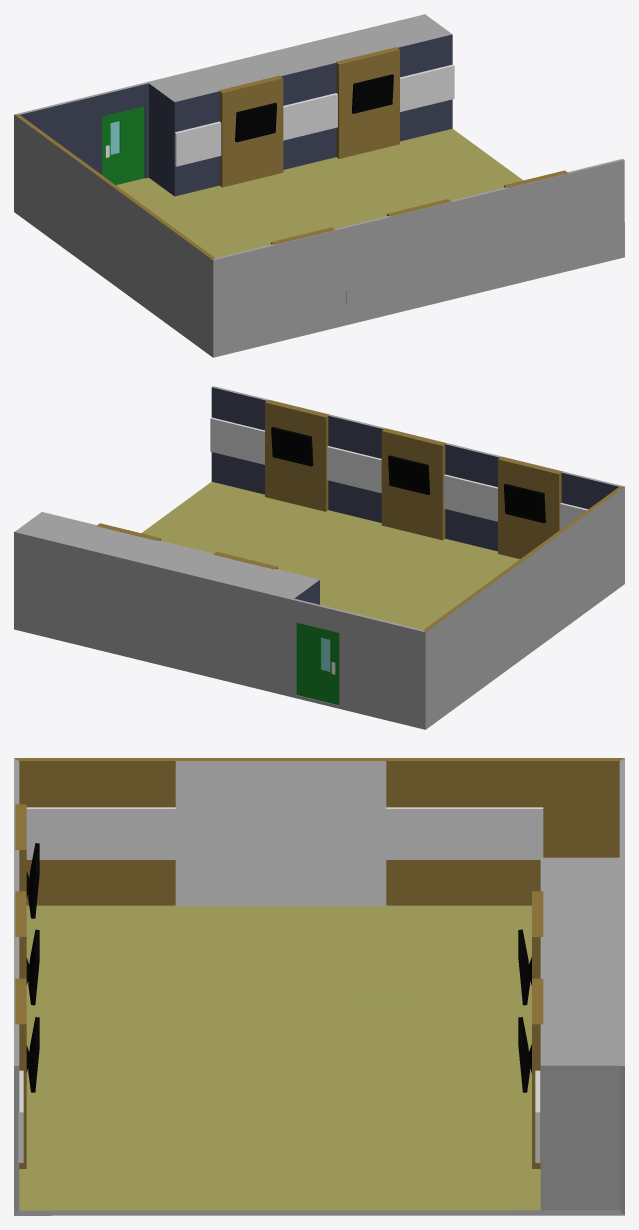
The model's file is Smart_Classroom_Extended_ColorFix.glb.
3 views of the same model, one above another, from view 1: azimuth 30°, elevation 25°; view 2: azimuth 150°, elevation 25°; view 3: azimuth 270°, elevation 25° (orthographic). The views are drawn at different scales.
Parts seen in each view (by area): view 1: Class Base, Panel.003, Panel.004, BoArD_RiGhT.001, BoArD_RiGhT.003, BoArD_RiGhT.002, TV.002, TV.003; view 2: Class Base, Panel.002, Panel.005, Panel.001, BoArD_LeFt.001, BoArD_LeFt.002, BoArD_LeFt.003, TV.004, TV.001, TV; view 3: Class Base, Screen, BoArD_Mid2, BoArD_Mid, Panel.004, Panel.005, Panel.003, Panel.002, Panel.001, TV.001, TV, TV.002 (+2 smaller).
Part boxes in pixels (x1,y1,x2,y2): Class Base: [14, 14, 624, 357]; Panel.003: [219, 75, 283, 187]; Panel.004: [336, 47, 399, 158]; BoArD_RiGhT.001: [283, 93, 337, 140]; BoArD_RiGhT.003: [400, 64, 454, 111]; BoArD_RiGhT.002: [174, 121, 221, 166]; TV.002: [235, 102, 276, 142]; TV.003: [351, 74, 393, 113]; Class Base: [14, 386, 624, 729]; Panel.002: [381, 428, 446, 540]; Panel.005: [265, 400, 329, 511]; Panel.001: [498, 457, 562, 558]; BoArD_LeFt.001: [443, 474, 497, 521]; BoArD_LeFt.002: [327, 446, 381, 493]; BoArD_LeFt.003: [210, 417, 264, 464]; TV.004: [271, 427, 313, 466]; TV.001: [388, 455, 430, 494]; TV: [504, 483, 545, 523]; Class Base: [14, 758, 624, 1215]; Screen: [175, 761, 386, 905]; BoArD_Mid2: [386, 807, 543, 859]; BoArD_Mid: [26, 807, 175, 859]; Panel.004: [532, 978, 543, 1168]; Panel.005: [15, 978, 26, 1168]; Panel.003: [532, 891, 543, 978]; Panel.002: [15, 891, 26, 978]; Panel.001: [15, 804, 26, 891]; TV.001: [26, 929, 39, 1005]; TV: [26, 843, 39, 918]; TV.002: [518, 929, 531, 1005].
Size of the model in its own units: 5.62 by 1.27 by 4.71.
